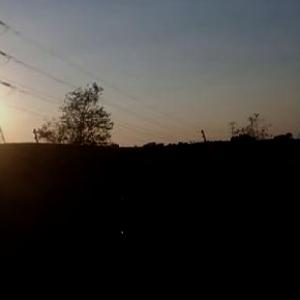follow: (108, 160, 169, 299)
